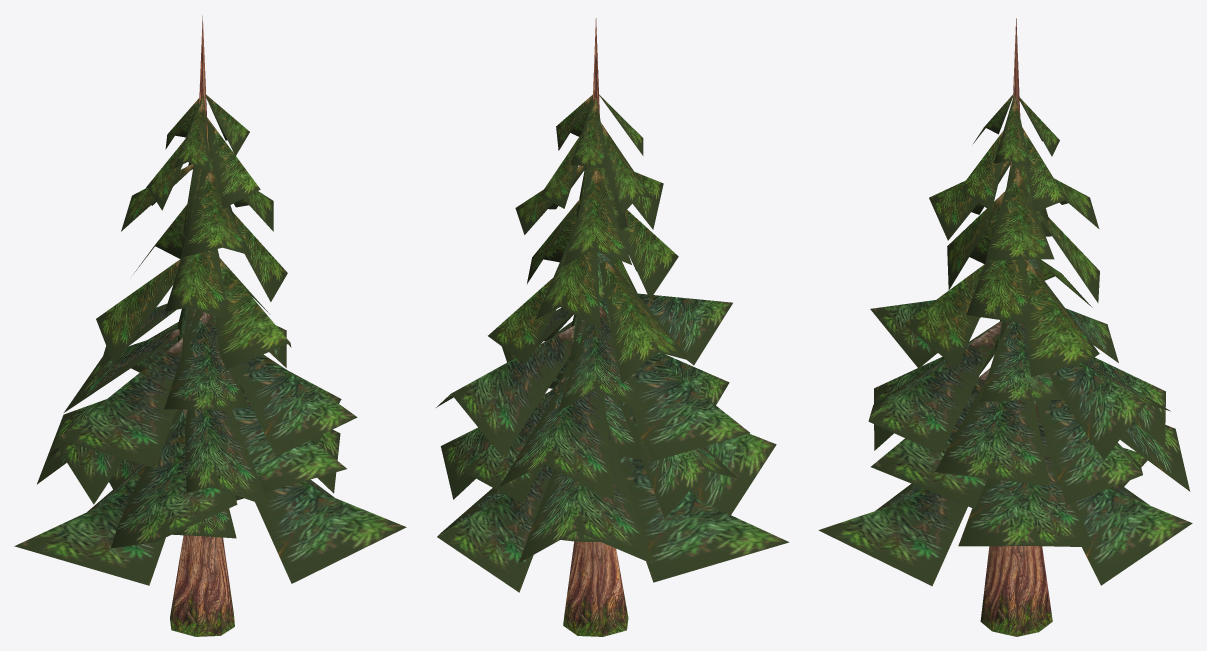
File: tree2.obj
3 renders of one model, left to right at view 1: azimuth 30°, elevation 25°; view 2: azimuth 150°, elevation 25°; view 3: azimuth 270°, elevation 25°, orthographic.
Visible parts, largest first — view 1: Geoset_1, Geoset_0; view 2: Geoset_1, Geoset_0; view 3: Geoset_1, Geoset_0.
Boxes of the visible parts, <box> form: Geoset_1: <box>14,94,406,585</box>; Geoset_0: <box>170,15,234,636</box>; Geoset_1: <box>436,94,789,592</box>; Geoset_0: <box>563,18,628,636</box>; Geoset_1: <box>818,95,1192,586</box>; Geoset_0: <box>980,18,1052,636</box>.
Bounding box in the file's own units: 31.01 × 53.41 × 29.85.
Materials: 2 (2 with a texture image).
